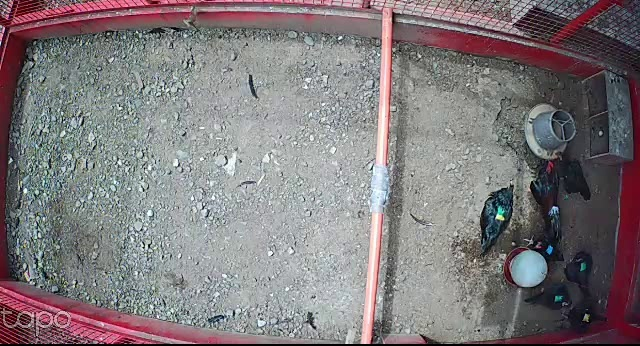Chicken: (475, 182, 517, 259), (561, 247, 595, 303), (521, 228, 568, 266), (524, 277, 576, 311), (554, 306, 612, 336)
Saddle_Color_Blue: (545, 242, 554, 256)
Saddle_Color_Yellow: (581, 313, 592, 322)
Saddle_Color_YellowGreen: (495, 205, 508, 222)
